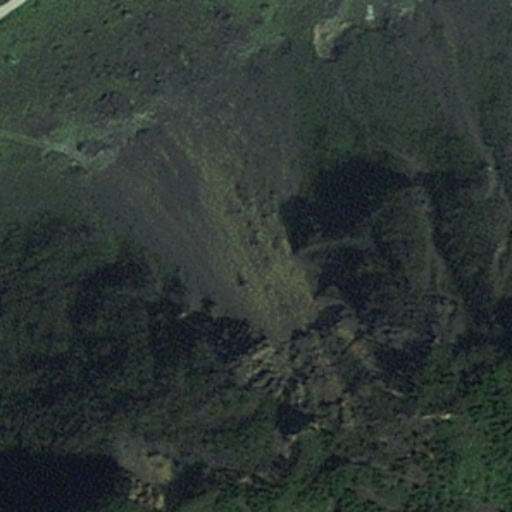landslide: (128, 107, 312, 325)
